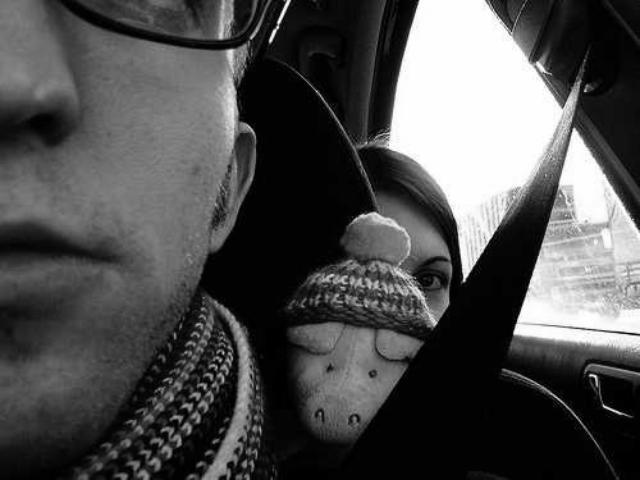SafeDriving: (406, 254, 452, 297)
Seatbelt: (360, 0, 598, 480)
